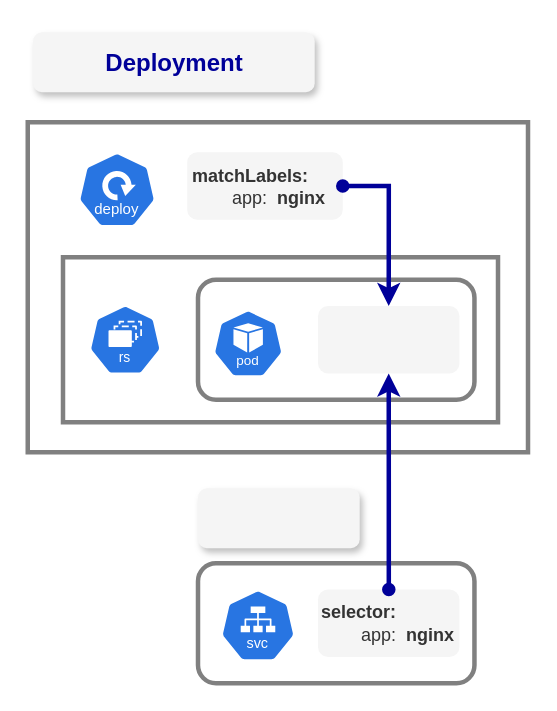
The diagram is 557 pixels wide and 711 high, and some of its shapes have lost their labels. The centre of each missing label's shape, as x and y in pixels:
labels: app: nginx: (x=388, y=339)
Service: (x=279, y=520)
